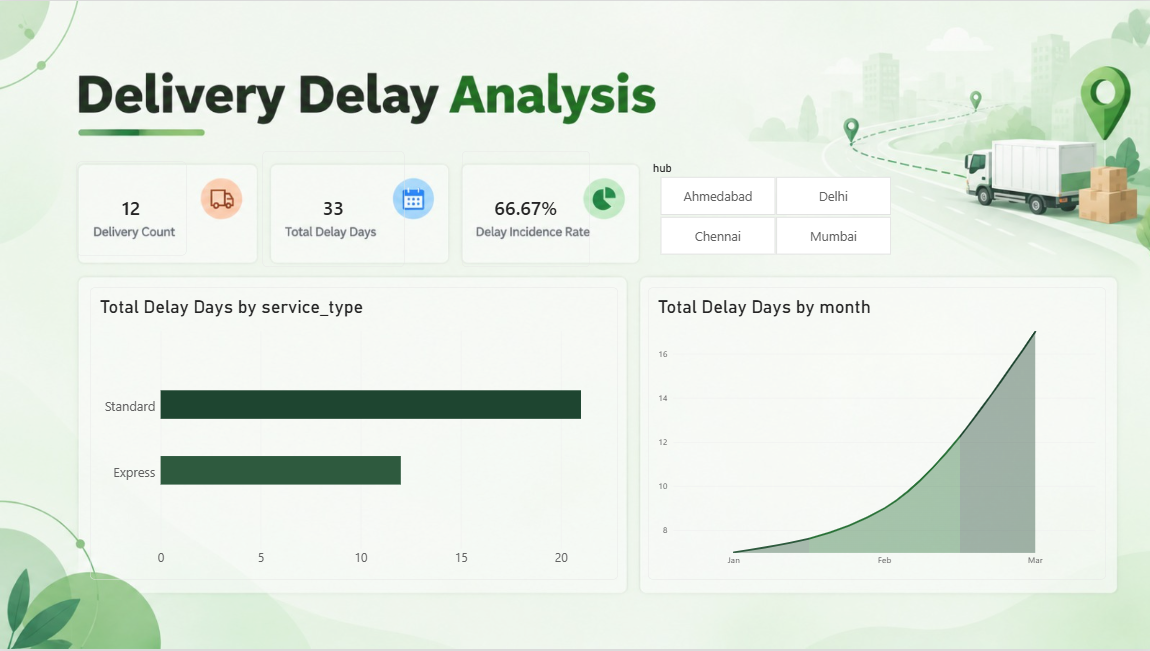

This screenshot's page, from the dashboard's own definition file:
{"tool":"powerbi","page":{"name":"Report","canvas":[1920,1080],"ordinal":1},"visuals":[{"type":"card","fields":{"Values":["Measures table.Delivery Count"]},"box":[126.7,266.7,183.3,156.7],"z":0},{"type":"card","fields":{"Values":["Measures table.Total Delay Days"]},"box":[436.7,250,236.7,193.3],"z":1000},{"type":"card","fields":{"Values":["Measures table.Delay Incidence Rate"]},"box":[770,250,213.3,193.3],"z":2000},{"type":"clusteredBarChart","fields":{"Category":["routes.service_type"],"Y":["Measures table.Total Delay Days"]},"box":[150,476.7,880,486.7],"z":3000},{"type":"lineChart","fields":{"Category":["deliveries.month"],"Y":["Measures table.Total Delay Days"]},"box":[1080,476.7,763.3,486.7],"z":4000},{"type":"slicer","fields":{"Values":["deliveries.hub"]},"box":[1080,266.7,423.3,156.7],"z":5000}]}

Visuals, with their boxes in screenshot pixels (x1, y1, x2, y2), scaled from the page's 1920x1080 canvas onto the 1150x651 screenshot:
card - Measures table.Delivery Count: (76, 161, 186, 255)
card - Measures table.Total Delay Days: (262, 151, 403, 267)
card - Measures table.Delay Incidence Rate: (461, 151, 589, 267)
clusteredBarChart - routes.service_type x Measures table.Total Delay Days: (90, 287, 617, 581)
lineChart - deliveries.month x Measures table.Total Delay Days: (647, 287, 1104, 581)
slicer - deliveries.hub: (647, 161, 900, 255)
